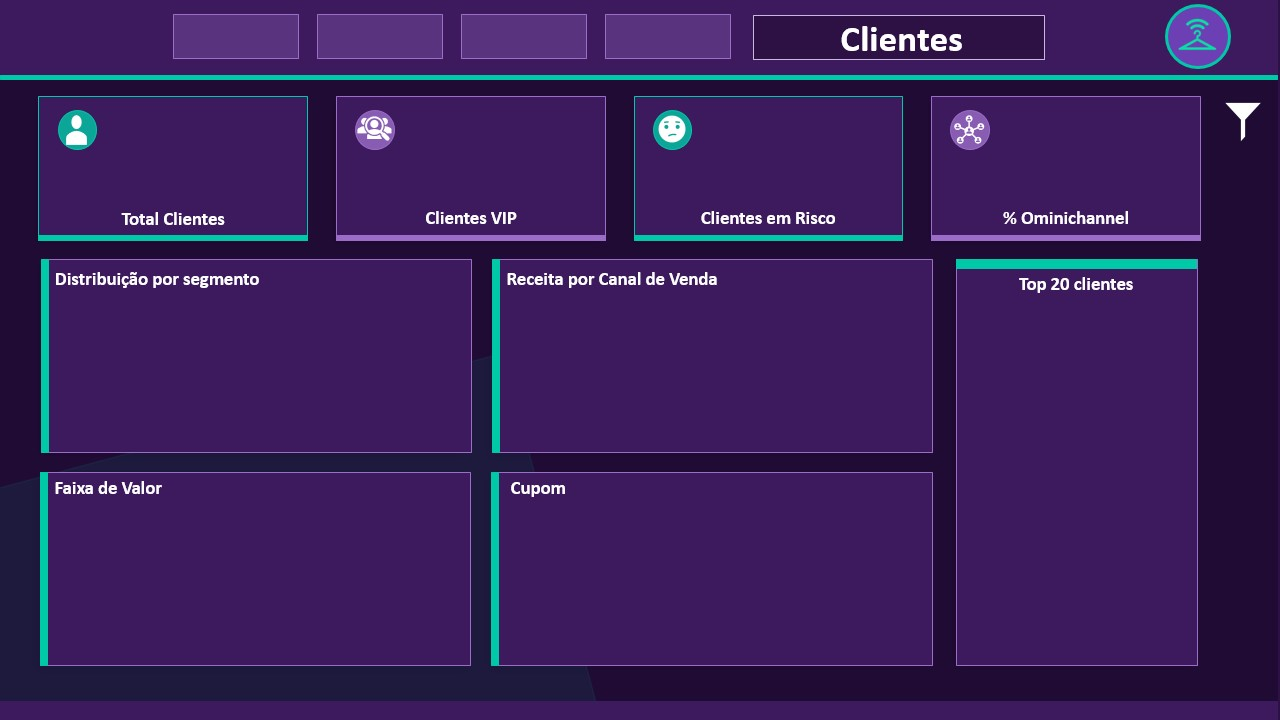

What the dashboard file says about the page in this screenshot:
{"tool":"powerbi","page":{"name":"Marketing","canvas":[1280,720],"ordinal":1},"visuals":[{"type":"shape","box":[0,0,1279,48],"z":0},{"type":"textbox","box":[14,7,864,33],"z":0},{"type":"card","title":"Clientes Ativos","fields":{"Values":["Medidas.Clientes Ativos"]},"box":[14,57,278,105],"z":0},{"type":"card","title":"Clientes VIP","fields":{"Values":["Medidas.Clientes VIP"]},"box":[307,57,278,105],"z":0},{"type":"card","title":"Em Risco","fields":{"Values":["Medidas.Clientes Em Risco"]},"box":[600,57,278,105],"z":0},{"type":"card","title":"% Omnichannel","fields":{"Values":["Medidas.Pct Omnichannel"]},"box":[892,57,369,105],"z":0},{"type":"donutChart","fields":{"Category":["dim_clientes.segmento"],"Y":["dim_clientes.Cnt"]},"box":[14,177,432,336],"z":0},{"type":"clusteredBarChart","fields":{"Category":["fato_vendas.canal"],"Y":["Medidas.Receita Total"]},"box":[460,177,432,336],"z":0},{"type":"clusteredColumnChart","fields":{"Category":["fato_vendas.faixa_valor"],"Y":["Medidas.Qtd Pedidos"]},"box":[907,177,355,336],"z":0},{"type":"slicer","title":"segmento","fields":{"Values":["dim_clientes.segmento"]},"box":[14,528,288,105],"z":0},{"type":"tableEx","fields":{"Values":["dim_clientes.nome_cliente","dim_clientes.segmento","dim_clientes.frequencia","dim_clientes.monetario","dim_clientes.ticket_medio"]},"box":[316,528,945,201],"z":0}]}

Visuals, with their boxes in screenshot pixels (x1, y1, x2, y2), scaled from the page's 1280x720 canvas onto the 1280x720 screenshot:
shape: bbox(0, 0, 1279, 48)
textbox: bbox(14, 7, 878, 40)
"Clientes Ativos" card: bbox(14, 57, 292, 162)
"Clientes VIP" card: bbox(307, 57, 585, 162)
"Em Risco" card: bbox(600, 57, 878, 162)
"% Omnichannel" card: bbox(892, 57, 1261, 162)
donutChart - dim_clientes.segmento x dim_clientes.Cnt: bbox(14, 177, 446, 513)
clusteredBarChart - fato_vendas.canal x Medidas.Receita Total: bbox(460, 177, 892, 513)
clusteredColumnChart - fato_vendas.faixa_valor x Medidas.Qtd Pedidos: bbox(907, 177, 1262, 513)
"segmento" slicer: bbox(14, 528, 302, 633)
tableEx - dim_clientes.nome_cliente x dim_clientes.segmento: bbox(316, 528, 1261, 719)
